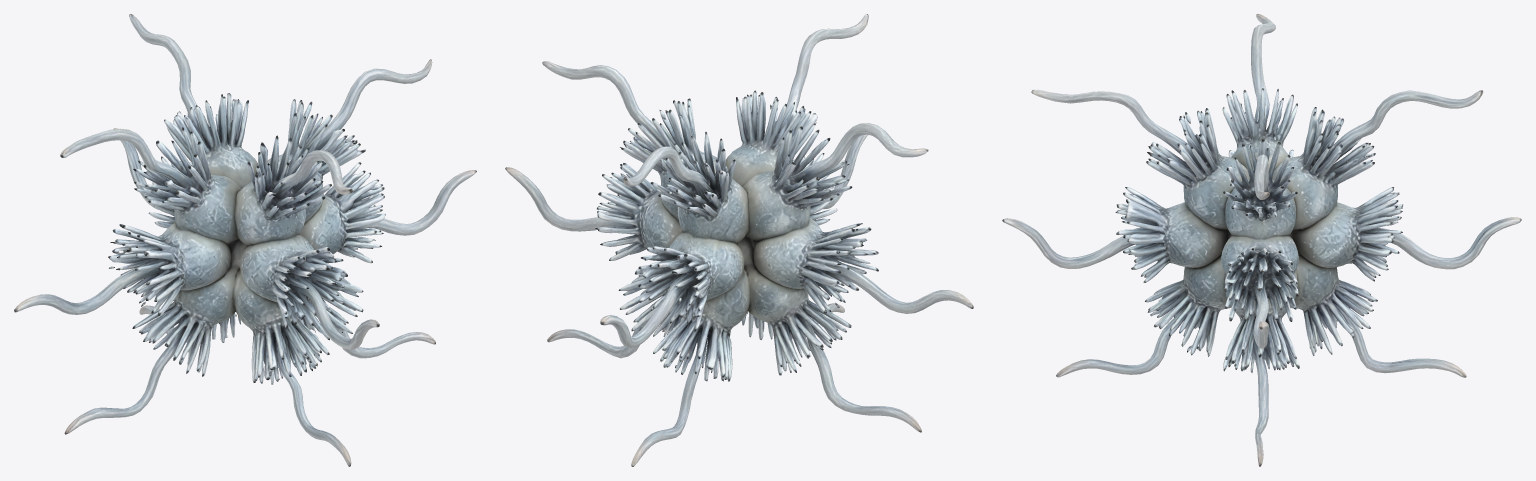
Rendered from colony.glb.
3 views of the same model, side by side, from view 1: azimuth 30°, elevation 25°; view 2: azimuth 150°, elevation 25°; view 3: azimuth 270°, elevation 25° (orthographic). The views are drawn at different scales.
Parts seen in each view (by area): view 1: model; view 2: model; view 3: model.
Part boxes in pixels (<box>): model: <box>14,14,476,466</box>; model: <box>505,14,973,466</box>; model: <box>1002,14,1521,466</box>.
Bounding box in the file's own units: 1.88 × 1.14 × 1.87.
1 material, 1 textured.
